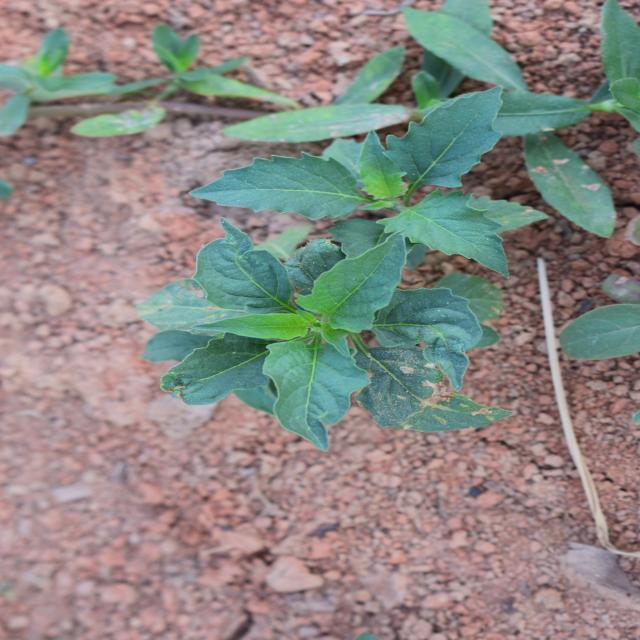Black_nightshade: (200, 156, 420, 494), (368, 208, 539, 536)
